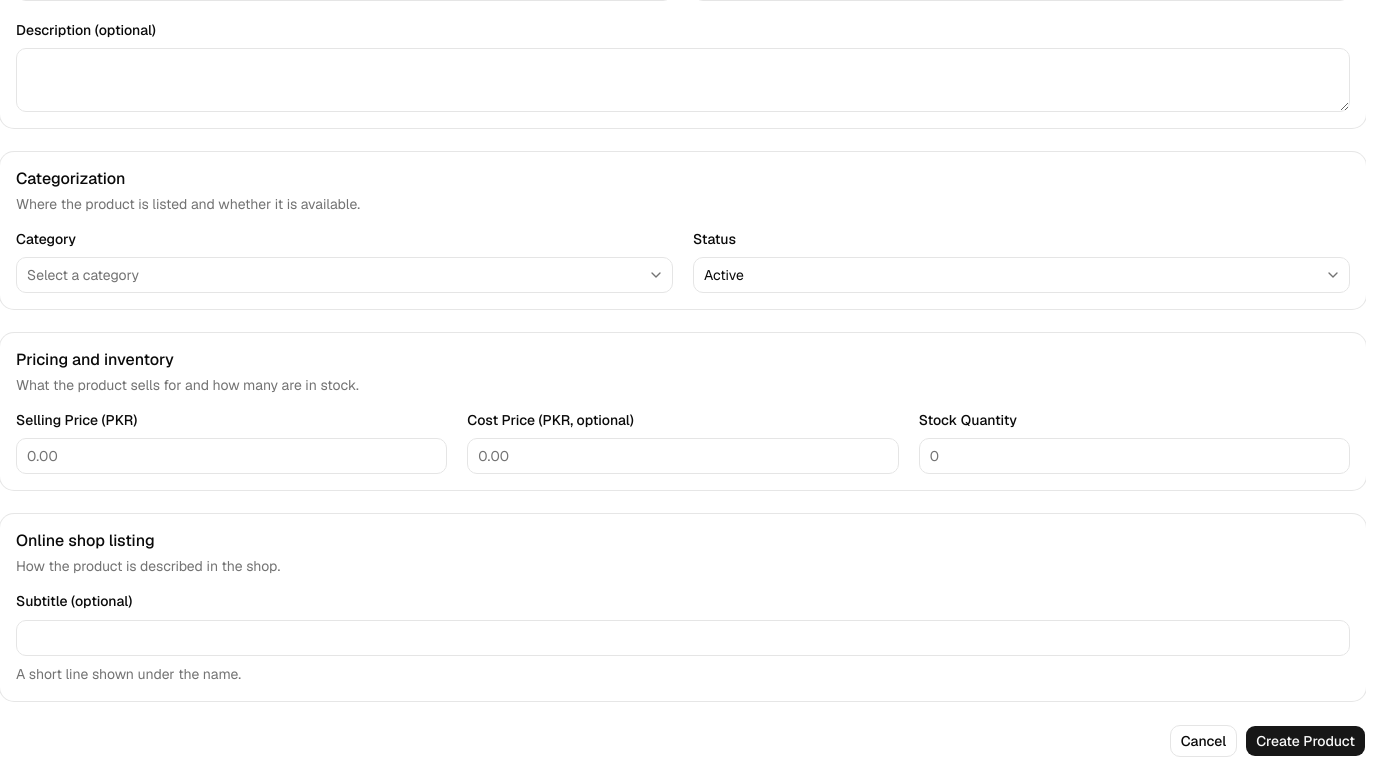
Test: ProductForm (create) › shows an error for every missing required field and does not submit
The image size is (1378, 757).
(page scrolled)
Click the button "Create Product" at (1306,740), box [1245,724,1366,756]
(page scrolled)
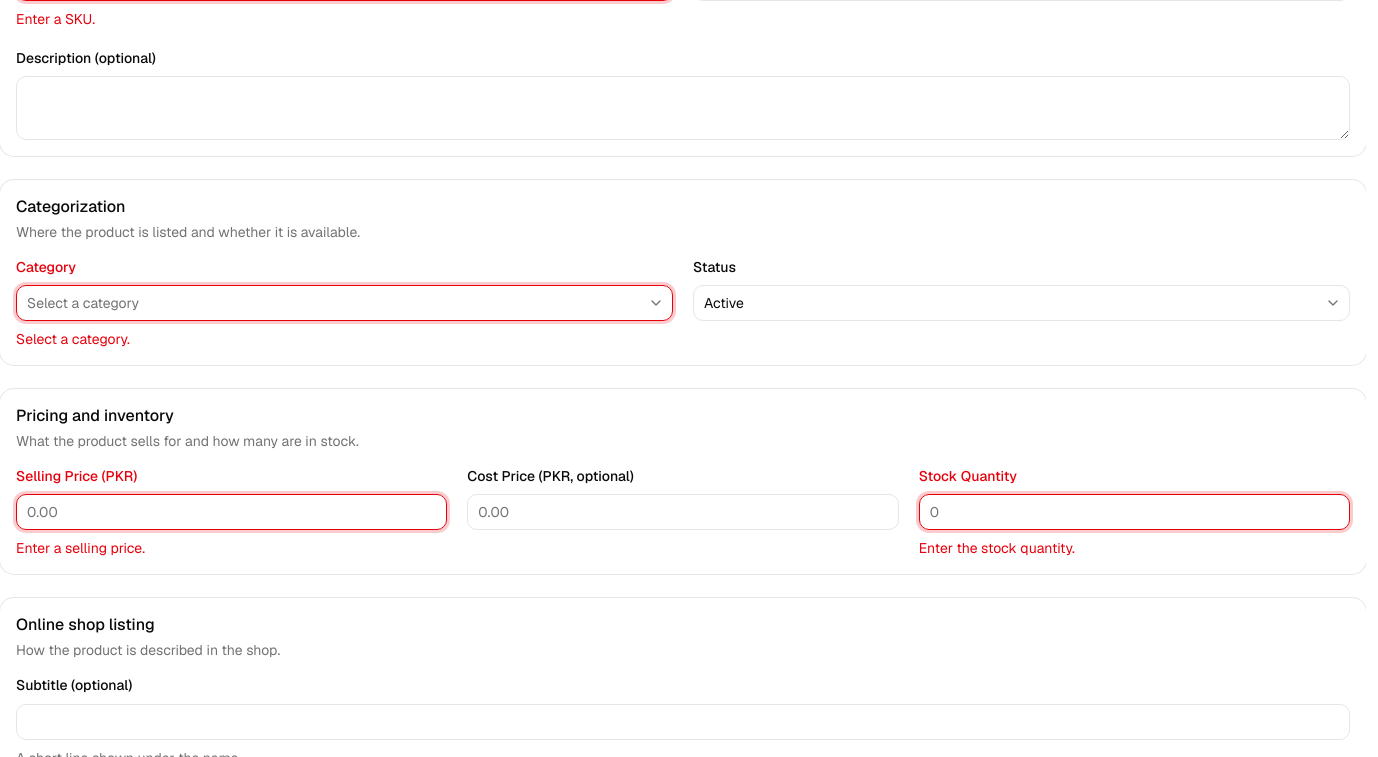
Expected: the text "Enter a SKU." is shown, [16,10,95,28]
Expected: the text "Select a category." is shown, [16,330,130,348]
Expected: the text "Enter a selling price." is shown, [16,539,145,557]
